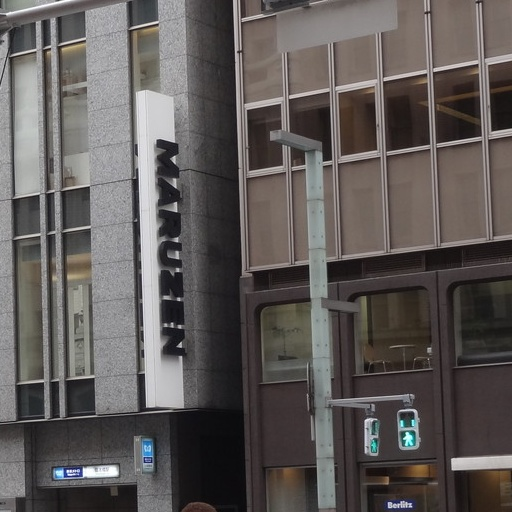Pedestrian_Signal_Blue: (394, 408, 425, 457)
